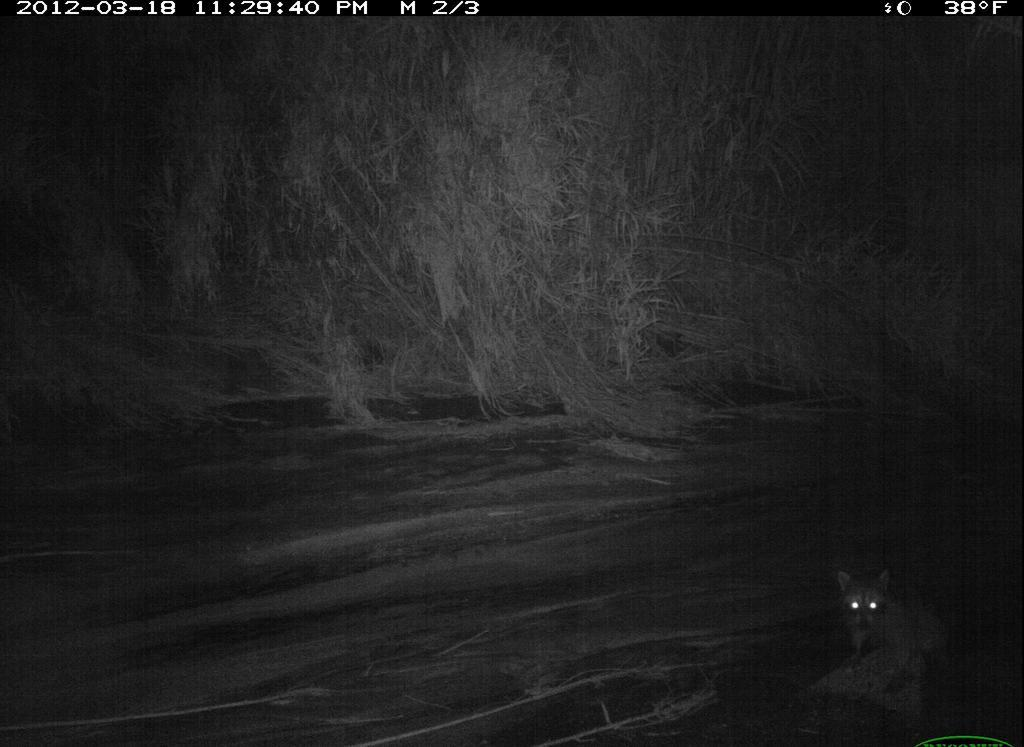raccoon: (824, 550, 977, 705)
